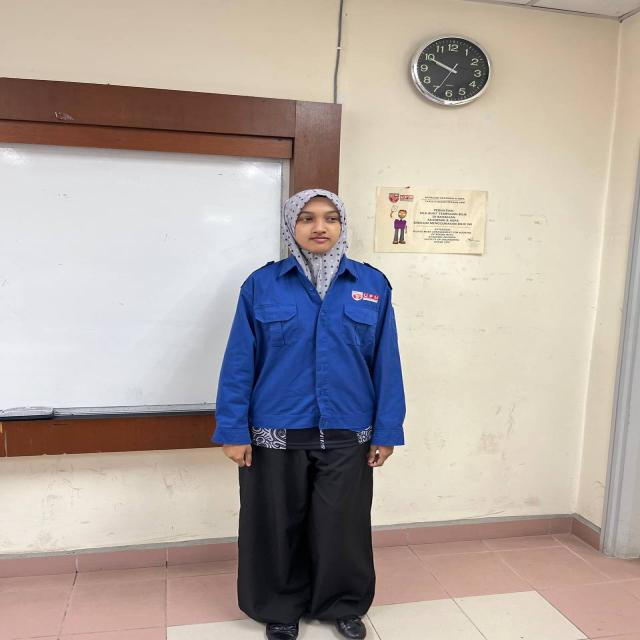person_with_labcoat: (211, 189, 405, 640)
